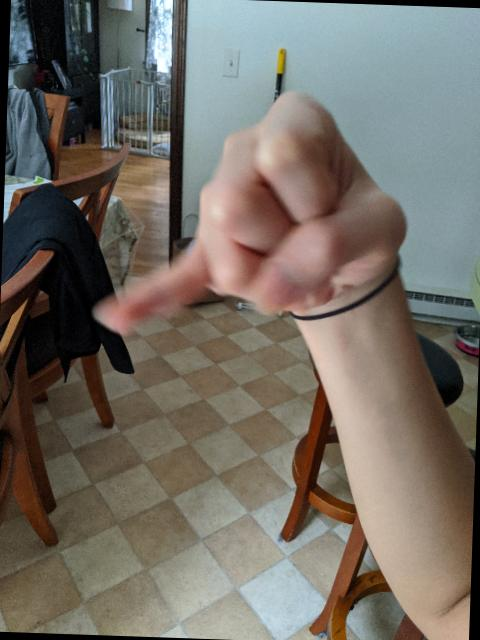J: (81, 78, 424, 361)
